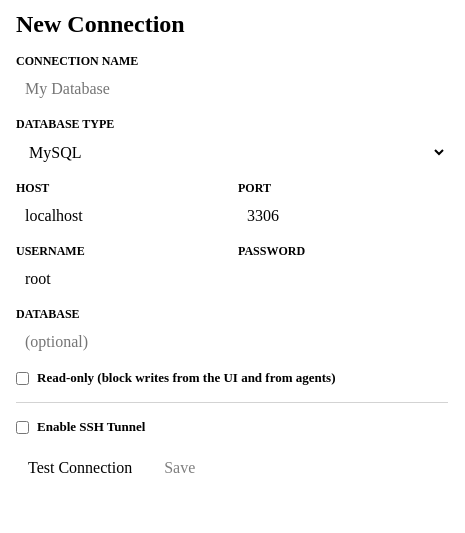
Test: ConnectionForm › 应该在收到 connectionTestResult 成功消息后显示成功提示
This screenshot has width=465, height=533.
Click the button "Test Connection" at (80, 468), box [16,455,144,481]
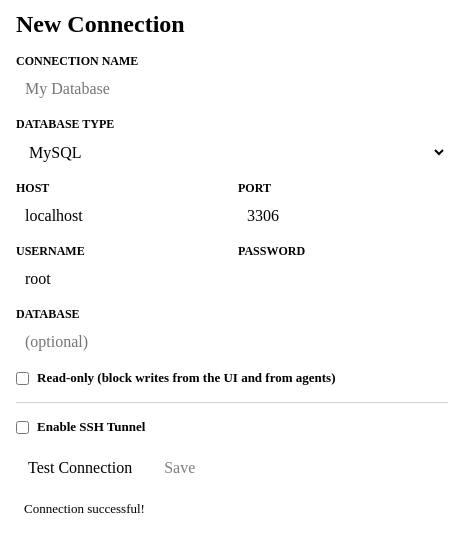
Now the text "Connection successful!" is shown, box [24,501,145,516]
